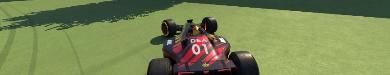Car: (146, 16, 259, 74)
grass: (0, 0, 389, 74)
